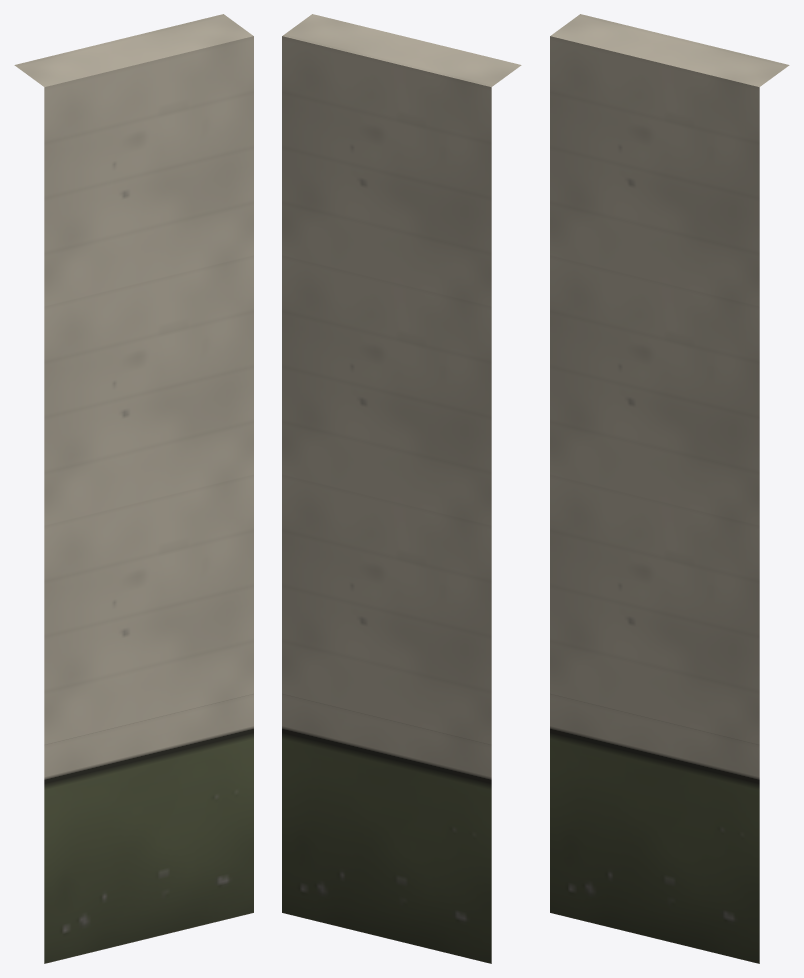
Rendered from wall_bunker_half.glb.
The picture shows the model from 3 angles, left to right: view 1: azimuth 30°, elevation 25°; view 2: azimuth 150°, elevation 25°; view 3: azimuth 330°, elevation 25°; orthographic projection.
Parts seen in each view (by area): view 1: wall_bunker_half; view 2: wall_bunker_half; view 3: wall_bunker_half.
Part boxes in pixels (left/top/right/bottom): wall_bunker_half: left=14, top=14, right=253, bottom=963; wall_bunker_half: left=282, top=14, right=521, bottom=963; wall_bunker_half: left=550, top=14, right=789, bottom=963.
Size of the model in its own units: 1 by 4 by 0.25.
Materials: 1 (1 with a texture image).
